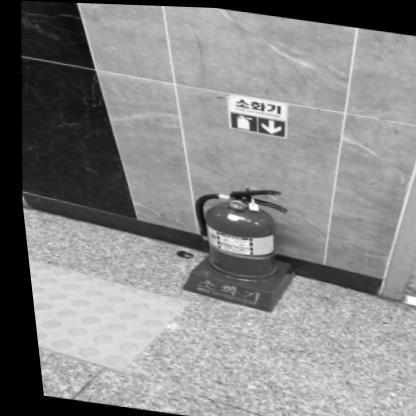FE: (165, 176, 299, 315)
